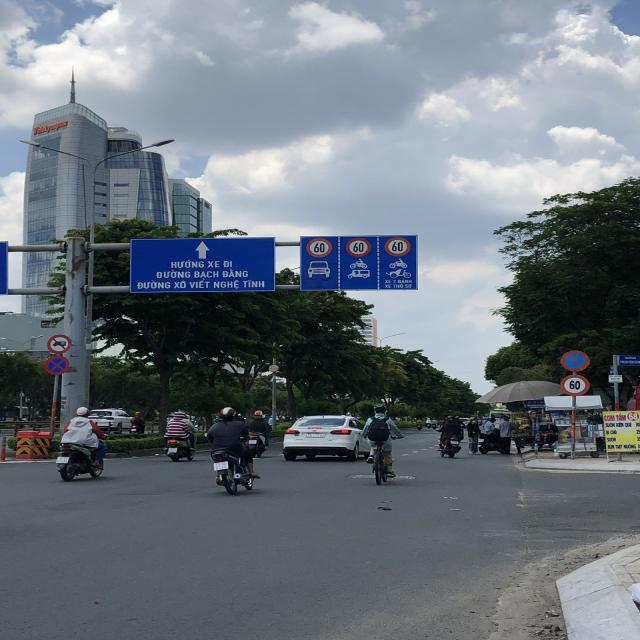Bien bao cam do xe: (556, 346, 593, 373)
Bien bao cam dung xe va do xe: (41, 355, 73, 378)
Bien bao cam xe oto tai: (46, 329, 75, 354)
Bien bao toc do toi da cho phep: (380, 235, 415, 257), (304, 234, 336, 258), (343, 235, 375, 257), (560, 375, 593, 396)
